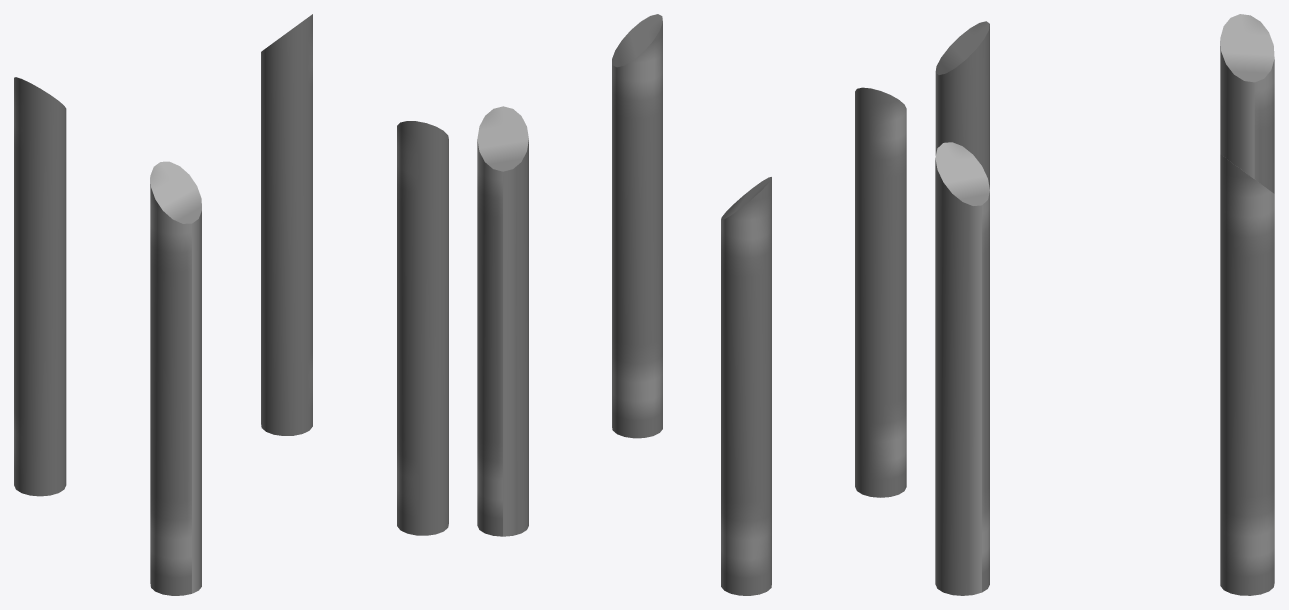
The model's file is prop_Pillar.fbx.
The picture shows the model from 3 angles, left to right: view 1: azimuth 30°, elevation 25°; view 2: azimuth 150°, elevation 25°; view 3: azimuth 270°, elevation 25°; orthographic projection. The views are drawn at different scales.
Parts seen in each view (by area): view 1: prop_Pillar.002, prop_Pillar, prop_Pillar.003, prop_Pillar.001; view 2: prop_Pillar.001, prop_Pillar.002, prop_Pillar.003, prop_Pillar; view 3: prop_Pillar.003, prop_Pillar.001, prop_Pillar, prop_Pillar.002.
Part boxes in pixels (<box>): prop_Pillar.002: <box>150,161,201,595</box>; prop_Pillar: <box>14,77,66,496</box>; prop_Pillar.003: <box>397,121,448,535</box>; prop_Pillar.001: <box>261,14,312,435</box>; prop_Pillar.001: <box>477,106,528,536</box>; prop_Pillar.002: <box>855,87,906,497</box>; prop_Pillar.003: <box>612,14,662,438</box>; prop_Pillar: <box>721,177,771,595</box>; prop_Pillar.003: <box>935,142,989,595</box>; prop_Pillar.001: <box>1220,154,1274,595</box>; prop_Pillar: <box>1220,14,1274,193</box>; prop_Pillar.002: <box>935,21,989,188</box>.
Size of the model in its own units: 1454 by 1973 by 1399.
